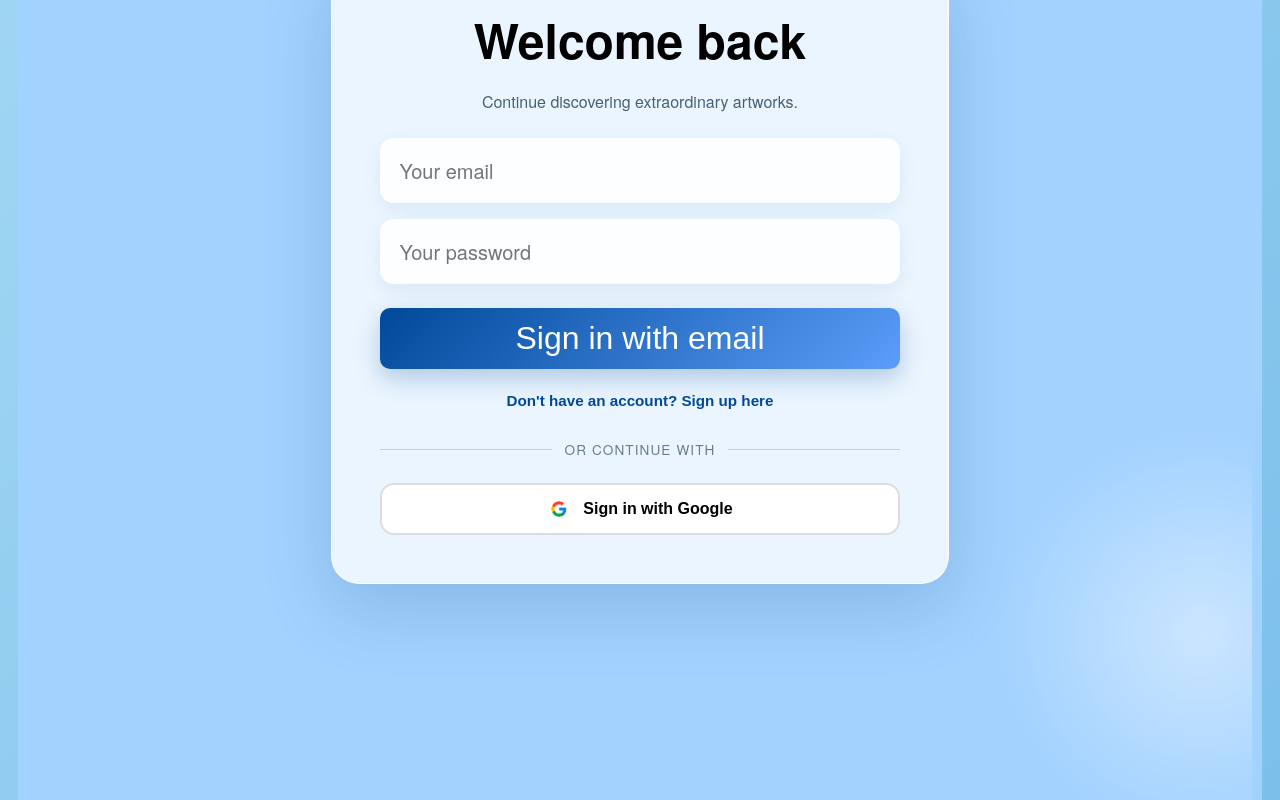
Test set for UserLogin › Test 2 => Must change to Register mode when press the button dont have an account...
The image size is (1280, 800).
(page scrolled)
Click the button "Don't have an account? Sign up here" at [640, 400], box [500,385,780,415]
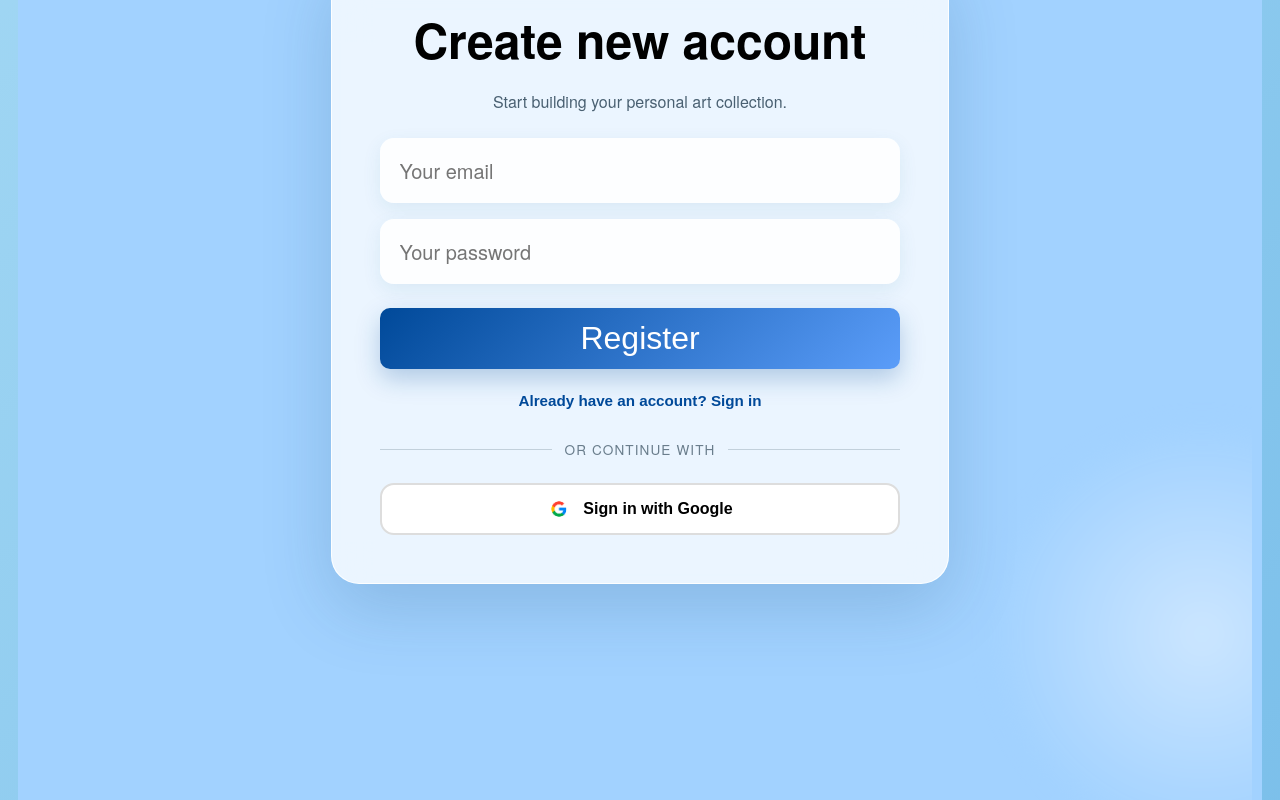
Result: the heading "Create new account" is shown at [380,5,900,74]
Result: the button "Register" is shown at [380,308,900,369]
